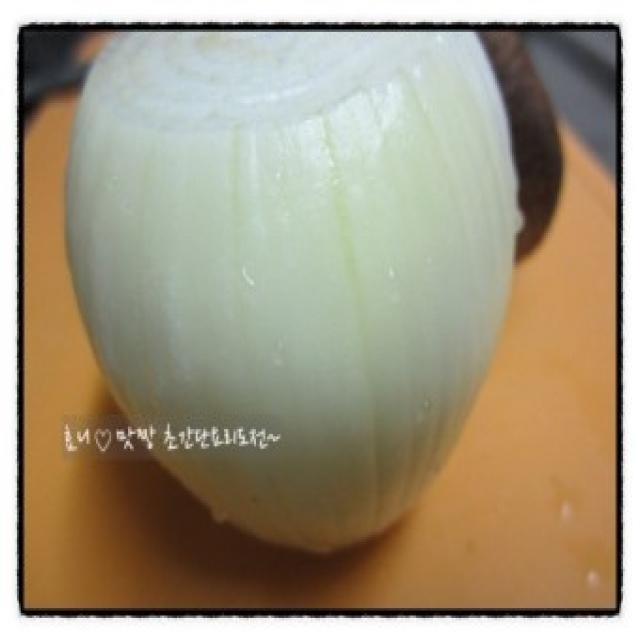Onion: (67, 30, 520, 555)
